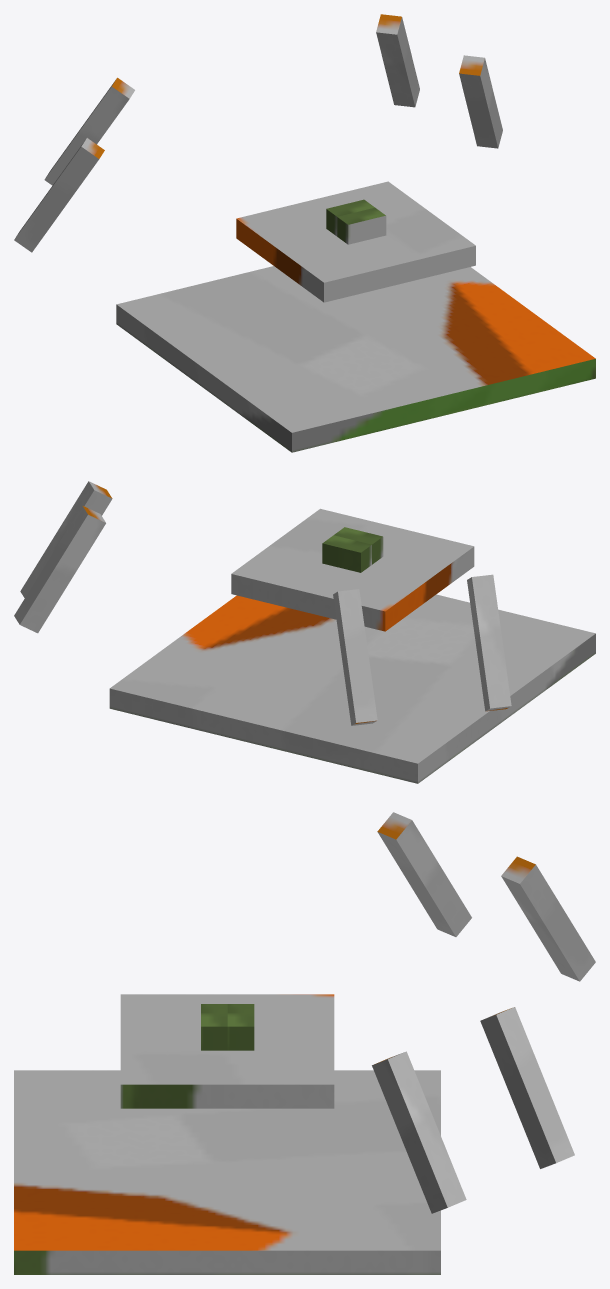
The model's file is assembly_platform.obj.
The picture shows the model from 3 angles, top to bottom: view 1: azimuth 30°, elevation 25°; view 2: azimuth 150°, elevation 25°; view 3: azimuth 270°, elevation 25°; orthographic projection. The views are drawn at different scales.
Parts seen in each view (by area): view 1: Base, Platform, Leg1, Leg4, Leg2, Leg3, Claw1, Claw2; view 2: Base, Platform, Leg4, Leg1, Leg3, Leg2, Claw2, Claw1; view 3: Base, Platform, Leg4, Leg2, Leg3, Leg1, Claw2, Claw1.
Boxes of the visible parts, box(x1,y1,x2,y2) form: Base: box(116, 266, 595, 452); Platform: box(236, 181, 475, 302); Leg1: box(14, 138, 104, 252); Leg4: box(376, 14, 419, 107); Leg2: box(459, 55, 502, 148); Leg3: box(44, 77, 134, 185); Claw1: box(337, 207, 386, 244); Claw2: box(326, 199, 374, 236); Base: box(109, 594, 595, 783); Platform: box(231, 508, 474, 631); Leg4: box(14, 505, 105, 633); Leg1: box(467, 574, 511, 711); Leg3: box(333, 589, 377, 725); Leg2: box(20, 481, 112, 597); Claw2: box(322, 535, 371, 572); Claw1: box(334, 527, 383, 564); Base: box(14, 1070, 440, 1274); Platform: box(120, 994, 334, 1108); Leg4: box(480, 1007, 574, 1168); Leg2: box(372, 1051, 466, 1213); Leg3: box(501, 856, 595, 981); Leg1: box(377, 812, 471, 936); Claw2: box(227, 1004, 254, 1050); Claw1: box(201, 1004, 227, 1050).
Bounding box in the file's own units: 1.6 × 0.6785 × 1.36.
